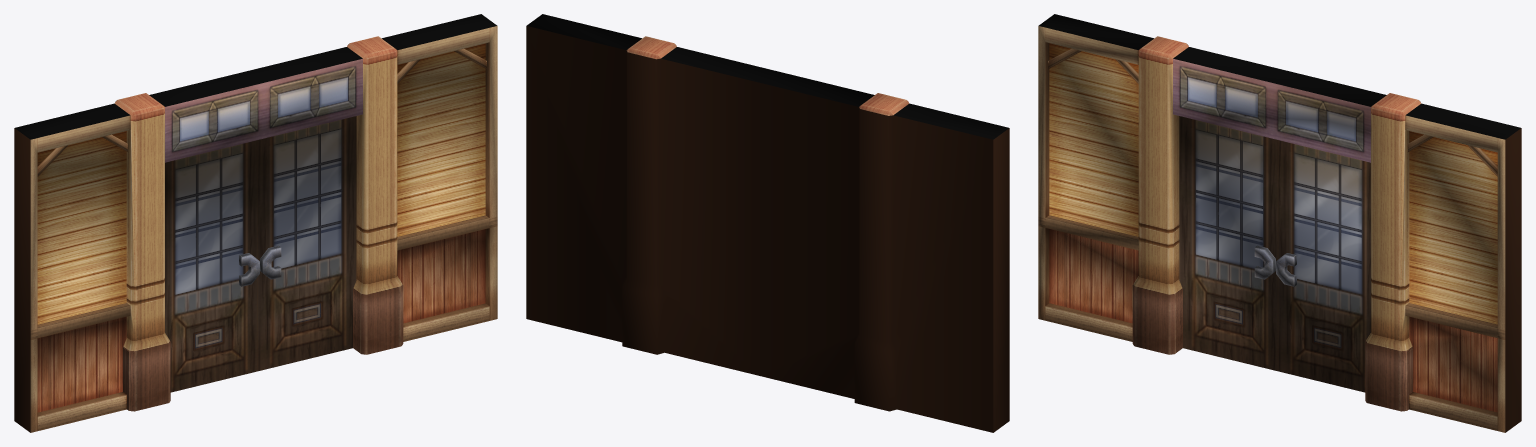
The model's file is a_SWGgate01A.glb.
3 views of the same model, side by side, from view 1: azimuth 30°, elevation 25°; view 2: azimuth 150°, elevation 25°; view 3: azimuth 330°, elevation 25° (orthographic).
Parts seen in each view (by area): view 1: a_SWGgate01A; view 2: a_SWGgate01A; view 3: a_SWGgate01A.
Part boxes in pixels (x1,y1,x2,y2): a_SWGgate01A: (14, 14, 497, 432); a_SWGgate01A: (526, 14, 1009, 432); a_SWGgate01A: (1038, 14, 1521, 432).
Size of the model in its own units: 5 by 3.03 by 0.4479.
4 materials, 4 textured.
